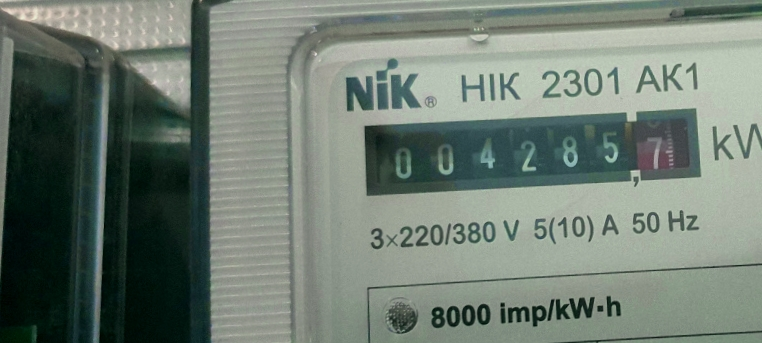0: (434, 138, 457, 176), (392, 143, 414, 179)
2: (518, 136, 538, 172)
4: (478, 134, 496, 169)
5: (599, 127, 621, 163)
7: (644, 133, 665, 170)
8: (558, 131, 580, 169)
screen: (348, 95, 716, 208)
